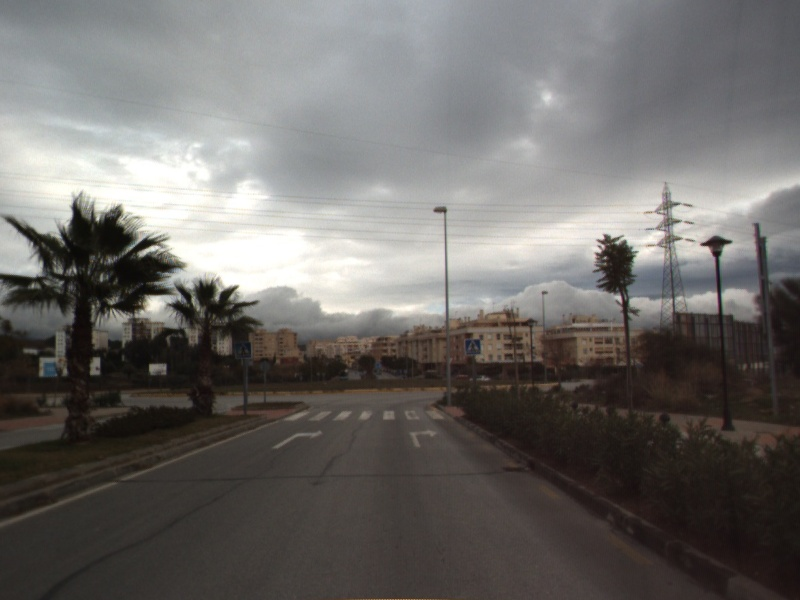RIGHT: (270, 428, 326, 451), (407, 426, 440, 449)
